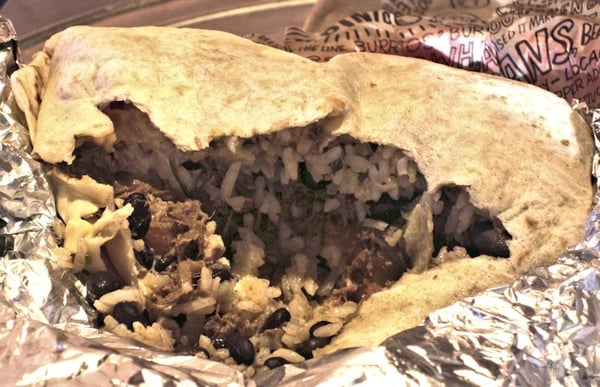soup: (3, 23, 595, 373)
